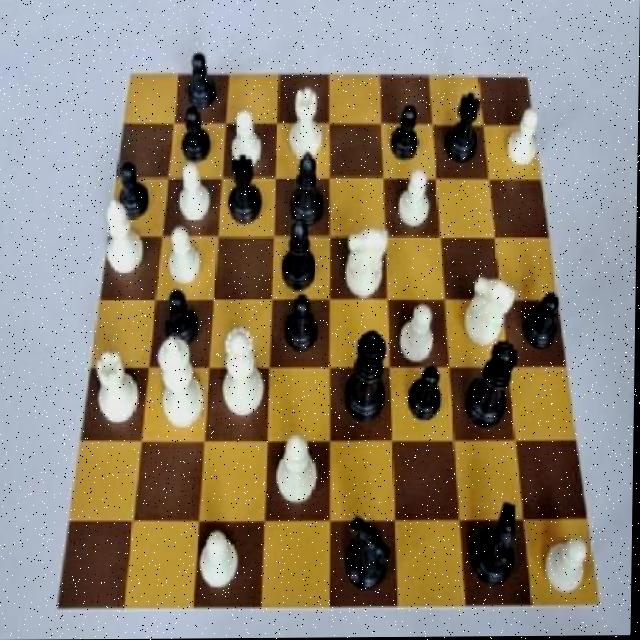bishop: (281, 150, 329, 231), (277, 213, 322, 298)
black-bishop: (338, 325, 393, 431)
black-king: (339, 505, 396, 599), (467, 501, 525, 593)
black-knight: (156, 285, 204, 355), (403, 362, 450, 433), (274, 292, 326, 356), (179, 40, 221, 119), (110, 159, 155, 230), (519, 288, 564, 354), (384, 101, 427, 170), (174, 105, 214, 174)
black-pawn: (459, 336, 522, 441)
black-queen: (441, 88, 488, 172), (223, 149, 267, 228)
black-rook: (101, 187, 150, 280), (269, 431, 323, 514)
white-bishop: (153, 330, 210, 434)
white-king: (459, 272, 521, 355), (338, 222, 391, 309)
white-knight: (194, 518, 246, 604), (543, 527, 594, 605), (161, 222, 204, 298), (503, 103, 547, 175), (393, 164, 438, 233), (174, 159, 214, 236), (222, 103, 265, 171), (399, 297, 441, 366)
white-pawn: (212, 324, 271, 426)
white-queen: (91, 344, 147, 428), (279, 86, 328, 167)
